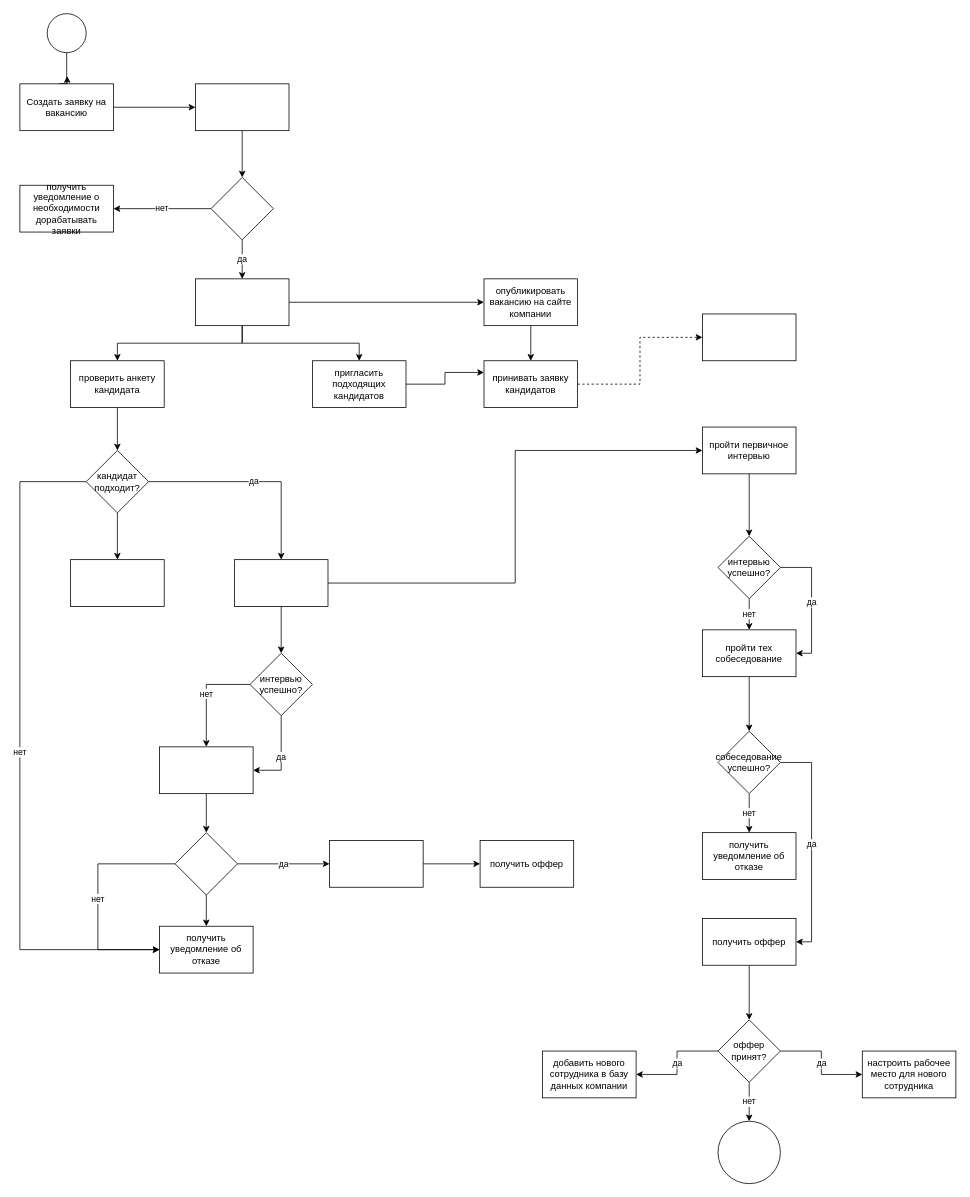
Image size: 970x1197. Some labels were removed from this diagram. The shapes that lost their labels are listed below. From the top down, each one's centre as x and y in pixels, then its label:
At [242,107]: "проверить заявку на вакансию".
At [241,208]: "Заявка соотв/требованиям?".
At [242,302]: "утвердить заявку".
At [749,337]: "подать заявку на вакансию".
At [117,582]: "отказ".
At [281,582]: "провести первичное интервью".
At [206,770]: "провести тех собеседование".
At [206,863]: "тех собеседование успешно?".
At [376,863]: "предложить оффер".
